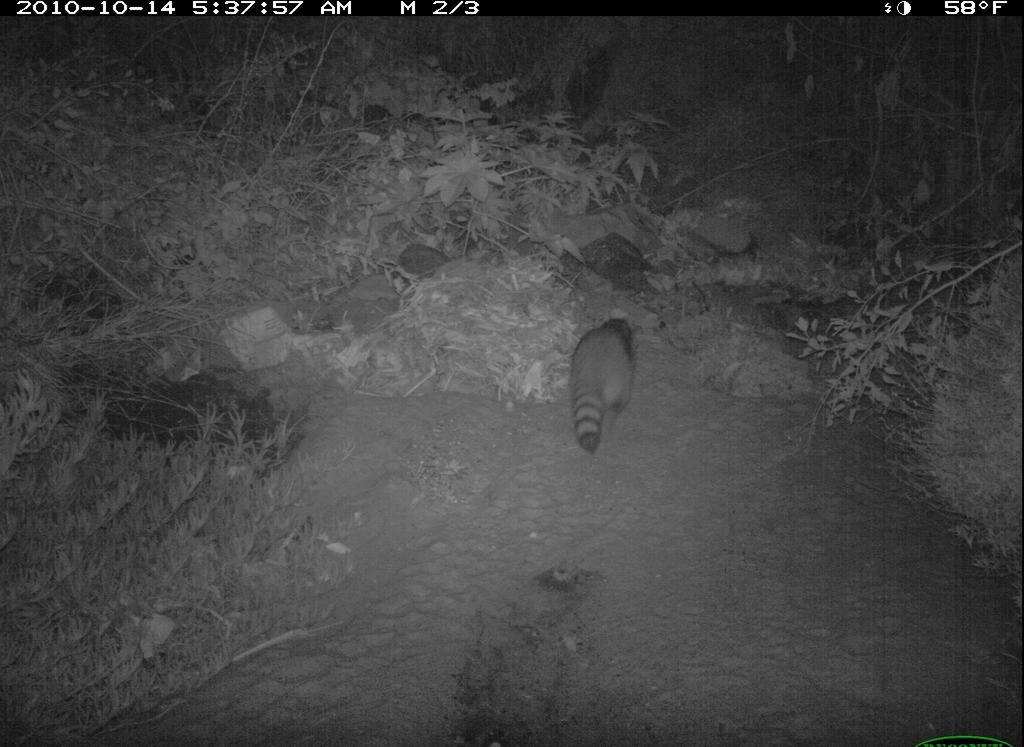raccoon: (560, 312, 644, 465)
